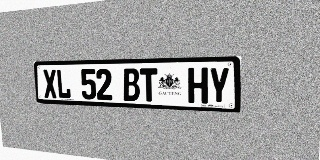2: (96, 69, 112, 100)
5: (81, 69, 97, 100)
B: (123, 68, 140, 101)
H: (188, 67, 208, 104)
L: (56, 69, 71, 99)
T: (140, 68, 158, 102)
X: (43, 69, 57, 98)
Y: (209, 67, 230, 104)
